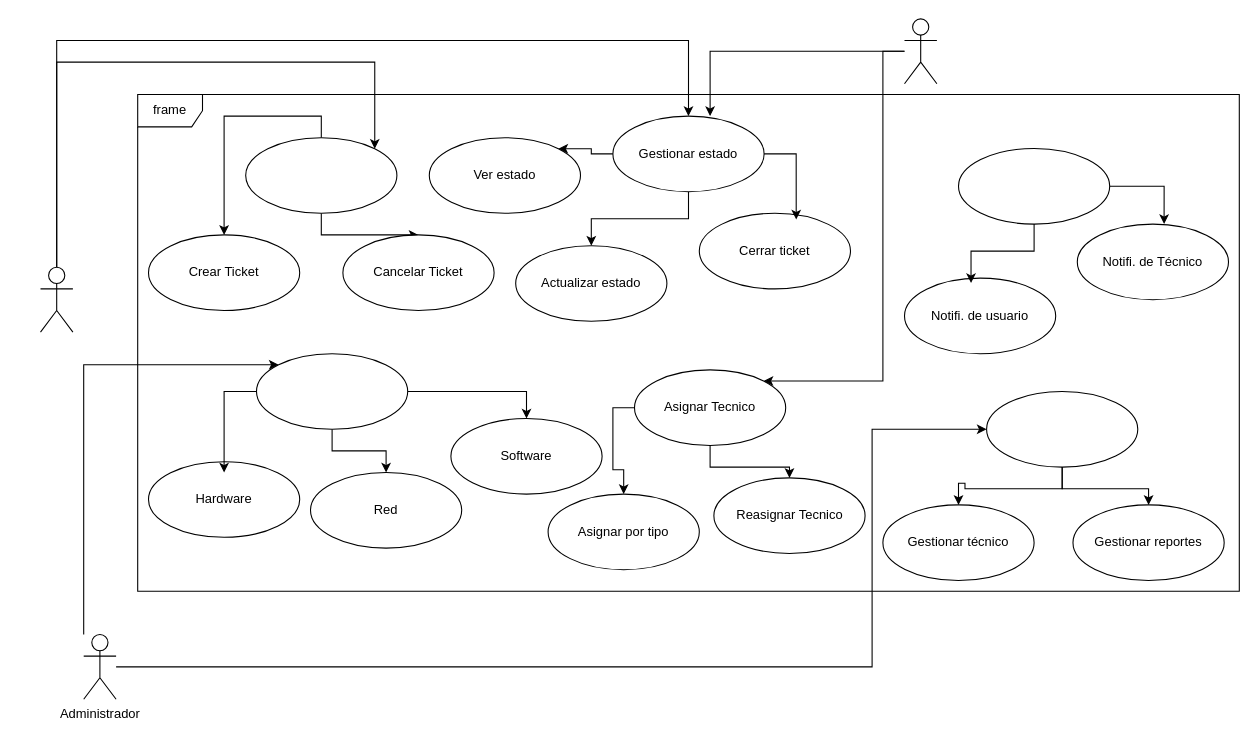
This 1258x741 diagram has some shape labels left out. Here are the shapes that lost their labels. From the top down, the centre of each, then its label:
At (920,51): "Tecnico de Soporte".
At (321,175): "Reporte Incidente".
At (1033,185): "Enviar Notificacion".
At (56,299): "Usuario Final".
At (331,391): "Categorizar Fallos".
At (1062,428): "Supervisar sistema".
